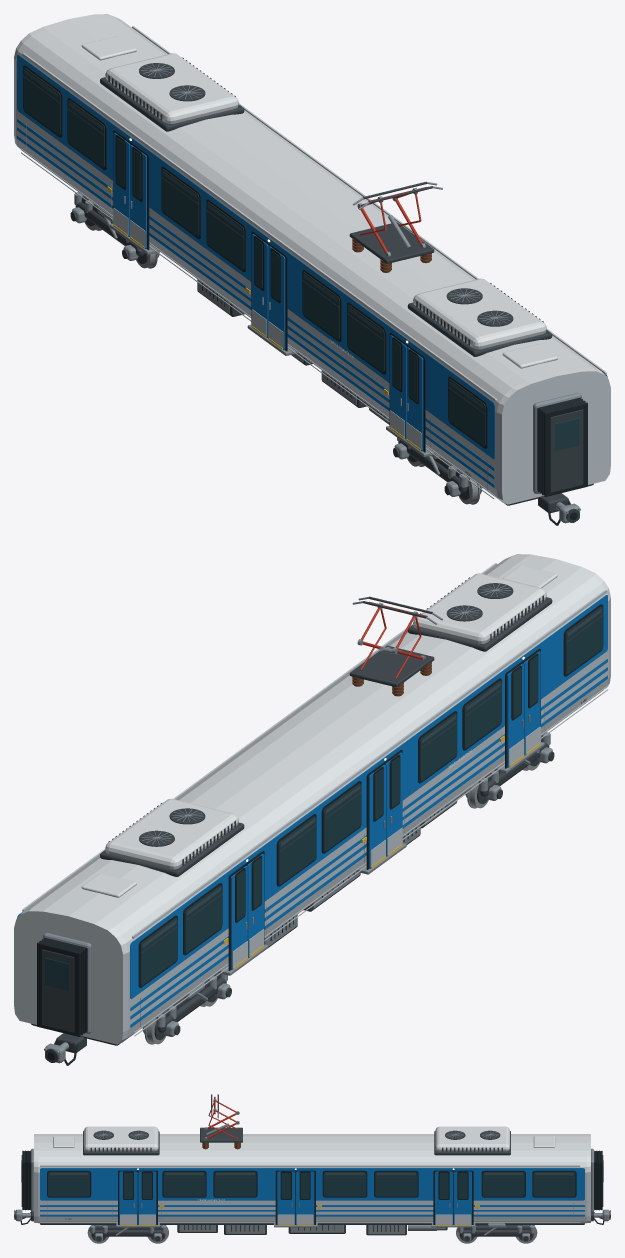
The model's file is tren_argentino_intermedio.glb.
The picture shows the model from 3 angles, top to bottom: view 1: azimuth 30°, elevation 25°; view 2: azimuth 150°, elevation 25°; view 3: azimuth 270°, elevation 25°; orthographic projection. The views are drawn at different scales.
Parts seen in each view (by area): view 1: Carroceria_y_detalles.001_Malla, Fuelle_interconexion.001_Malla, Pantografo_Malla, Puerta_I_2_A.001_Malla, Puerta_I_2_B.001_Malla, Puerta_I_1_A.001_Malla, Puerta_I_1_B.001_Malla, Puerta_I_3_B.001_Malla, Puerta_I_3_A.001_Malla, Bastidor_trasero.001_Malla, Bastidor_delantero.001_Malla, Acople_B_Malla; view 2: Carroceria_y_detalles.001_Malla, Fuelle_interconexion.002_Malla, Pantografo_Malla, Puerta_I_1_B.001_Malla, Puerta_I_3_A.001_Malla, Bastidor_delantero.001_Malla, Puerta_I_2_B.001_Malla, Puerta_I_1_A.001_Malla, Puerta_I_2_A.001_Malla, Puerta_I_3_B.001_Malla, Bastidor_trasero.001_Malla, Acople_A_Malla; view 3: Carroceria_y_detalles.001_Malla, Pantografo_Malla, Puerta_D_2_B.001_Malla, Puerta_D_1_A.001_Malla, Puerta_D_1_B.001_Malla, Puerta_D_2_A.001_Malla, Puerta_D_3_A.001_Malla, Bastidor_delantero.001_Malla, Puerta_D_3_B.001_Malla, Bastidor_trasero.001_Malla, Fuelle_interconexion.001_Malla, Fuelle_interconexion.002_Malla.
Part boxes in pixels (left/top/right/bottom): Carroceria_y_detalles.001_Malla: left=14, top=14, right=610, bottom=505; Fuelle_interconexion.001_Malla: left=533, top=392, right=587, bottom=496; Pantografo_Malla: left=349, top=181, right=442, bottom=272; Puerta_I_2_A.001_Malla: left=268, top=246, right=285, bottom=350; Puerta_I_2_B.001_Malla: left=251, top=234, right=268, bottom=338; Puerta_I_1_A.001_Malla: left=406, top=347, right=423, bottom=451; Puerta_I_1_B.001_Malla: left=389, top=335, right=406, bottom=439; Puerta_I_3_B.001_Malla: left=113, top=133, right=130, bottom=236; Puerta_I_3_A.001_Malla: left=130, top=145, right=146, bottom=248; Bastidor_trasero.001_Malla: left=393, top=438, right=468, bottom=496; Bastidor_delantero.001_Malla: left=70, top=192, right=144, bottom=260; Acople_B_Malla: left=538, top=493, right=580, bottom=525; Carroceria_y_detalles.001_Malla: left=14, top=554, right=610, bottom=1045; Fuelle_interconexion.002_Malla: left=37, top=932, right=91, bottom=1036; Pantografo_Malla: left=349, top=596, right=442, bottom=696; Puerta_I_1_B.001_Malla: left=507, top=663, right=524, bottom=767; Puerta_I_3_A.001_Malla: left=247, top=853, right=264, bottom=957; Bastidor_delantero.001_Malla: left=156, top=973, right=231, bottom=1036; Puerta_I_2_B.001_Malla: left=369, top=764, right=386, bottom=868; Puerta_I_1_A.001_Malla: left=524, top=651, right=540, bottom=755; Puerta_I_2_A.001_Malla: left=385, top=752, right=402, bottom=856; Puerta_I_3_B.001_Malla: left=231, top=866, right=247, bottom=969; Bastidor_trasero.001_Malla: left=479, top=732, right=554, bottom=800; Acople_A_Malla: left=44, top=1033, right=86, bottom=1065; Carroceria_y_detalles.001_Malla: left=34, top=1126, right=590, bottom=1235; Pantografo_Malla: left=200, top=1094, right=242, bottom=1149; Puerta_D_2_B.001_Malla: left=296, top=1171, right=314, bottom=1225; Puerta_D_1_A.001_Malla: left=119, top=1171, right=137, bottom=1225; Puerta_D_1_B.001_Malla: left=138, top=1171, right=156, bottom=1225; Puerta_D_2_A.001_Malla: left=277, top=1171, right=295, bottom=1225; Puerta_D_3_A.001_Malla: left=435, top=1171, right=453, bottom=1225; Bastidor_delantero.001_Malla: left=458, top=1223, right=534, bottom=1241; Puerta_D_3_B.001_Malla: left=454, top=1171, right=471, bottom=1225; Bastidor_trasero.001_Malla: left=90, top=1225, right=166, bottom=1241; Fuelle_interconexion.001_Malla: left=21, top=1148, right=33, bottom=1212; Fuelle_interconexion.002_Malla: left=591, top=1148, right=603, bottom=1212.
Bounding box in the file's own units: 3.39 × 6.06 × 24.97.
